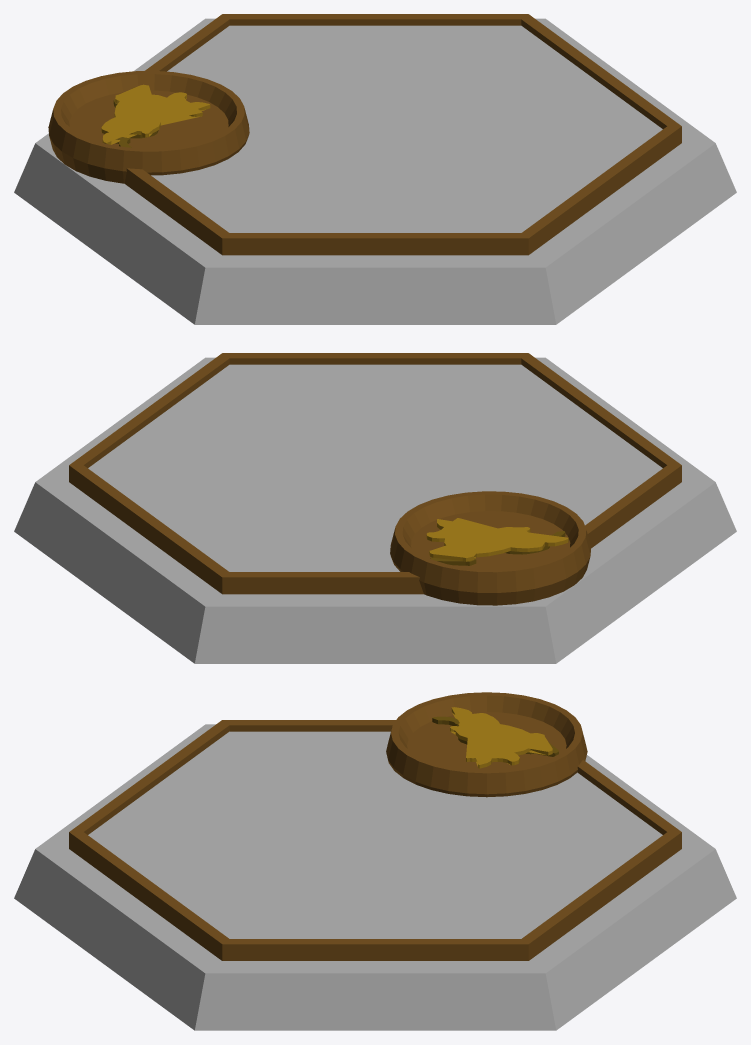
File: kancil board.fbx
The picture shows the model from 3 angles, top to bottom: view 1: azimuth 30°, elevation 25°; view 2: azimuth 150°, elevation 25°; view 3: azimuth 270°, elevation 25°; orthographic projection.
Parts seen in each view (by area): view 1: kancil board; view 2: kancil board; view 3: kancil board.
Part boxes in pixels (<box>): kancil board: <box>14,14,736,324</box>; kancil board: <box>14,353,736,663</box>; kancil board: <box>14,692,736,1030</box>.
Bounding box in the file's own units: 315 × 45.72 × 364.
